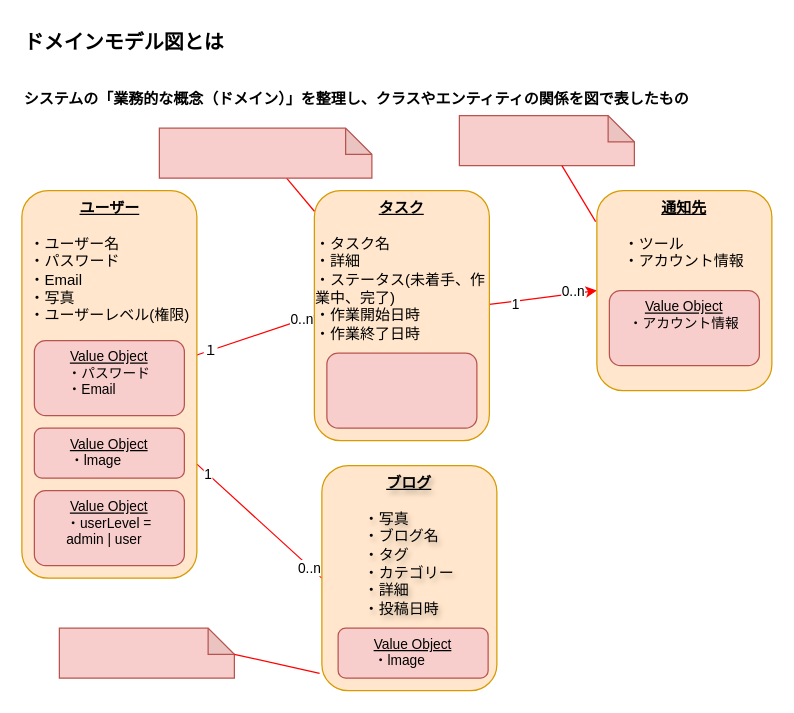
The diagram is 794 pixels wide and 713 high, and some of its shapes have lost their labels. Each missing label, with the centre of its shape:
CSV 入出力可能(タスク履歴): (265,152)
Value Object ・status : 未着手 | 作業中 | 完了: (401,390)
トリガーは タスク追加時/編集時: (546,140)
非会員でも閲覧可能: (146,652)
